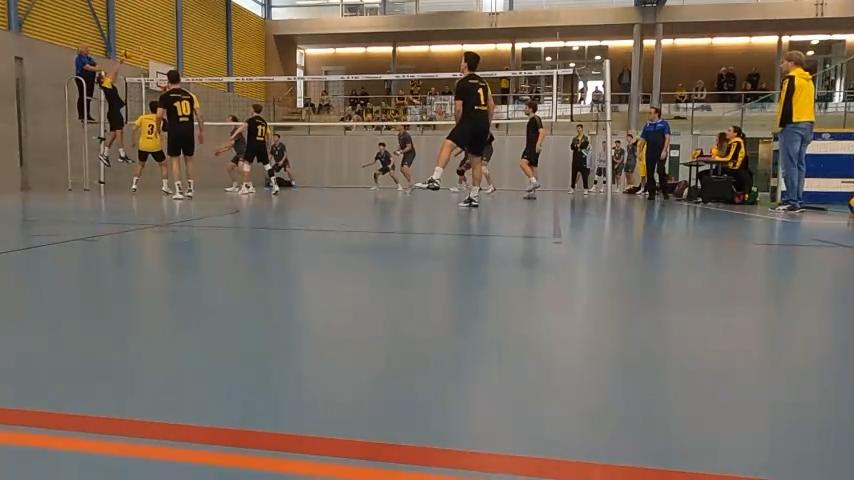attacco: (93, 52, 136, 172)
